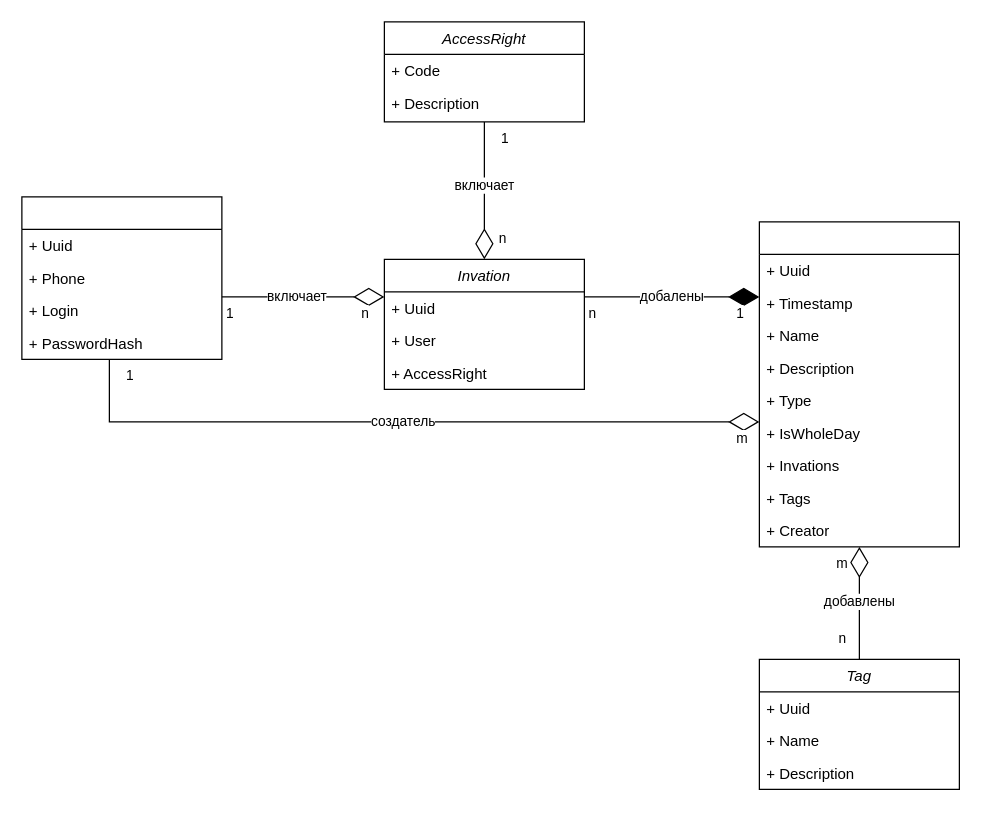
This 981x815 diagram has some shape labels left out. The shapes that lost their labels are listed below. From the top down, each one's box as (x1, y1, x2, y2) in pixels, then its label:
(21, 196, 222, 359): User
(758, 221, 959, 547): Event
